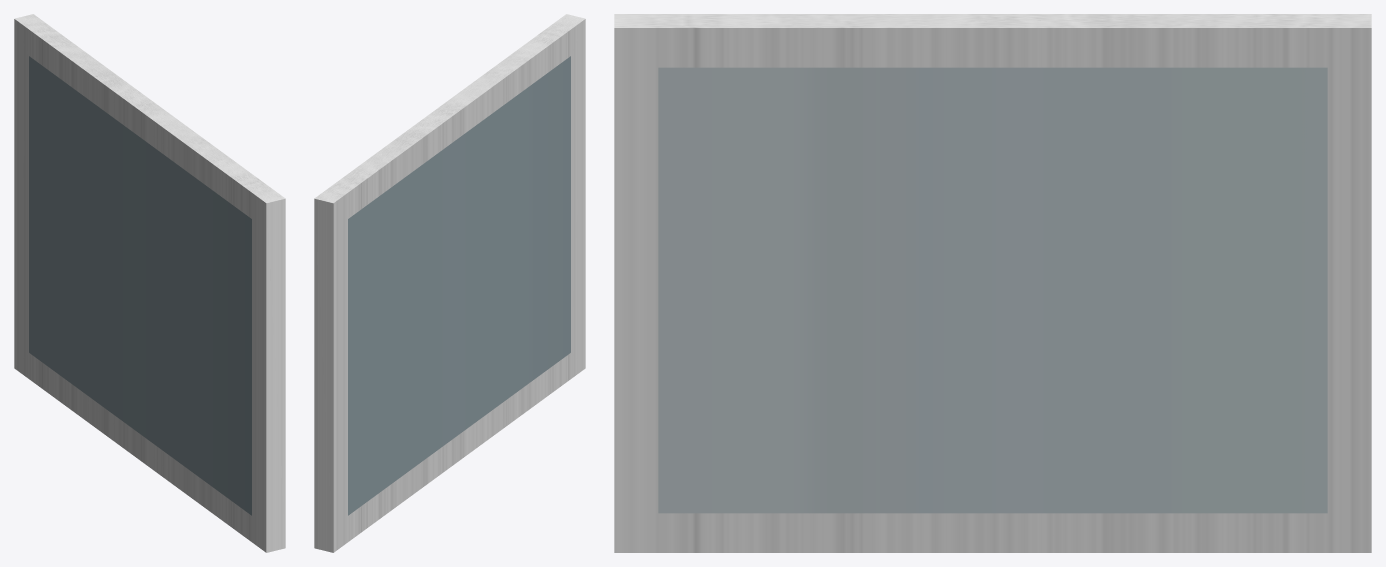
The model's file is VentanaAbajo.obj.
3 views of the same model, side by side, from view 1: azimuth 30°, elevation 25°; view 2: azimuth 150°, elevation 25°; view 3: azimuth 270°, elevation 25° (orthographic). The views are drawn at different scales.
Parts seen in each view (by area): view 1: VentanaAbajo; view 2: VentanaAbajo; view 3: VentanaAbajo.
Boxes of the visible parts, x1,y1,x2,y2 form: VentanaAbajo: (14, 14, 285, 552); VentanaAbajo: (314, 14, 585, 552); VentanaAbajo: (614, 14, 1371, 552).
Bounding box in the file's own units: 0.1281 × 2.22 × 2.91.
Materials: 2 (2 with a texture image).
